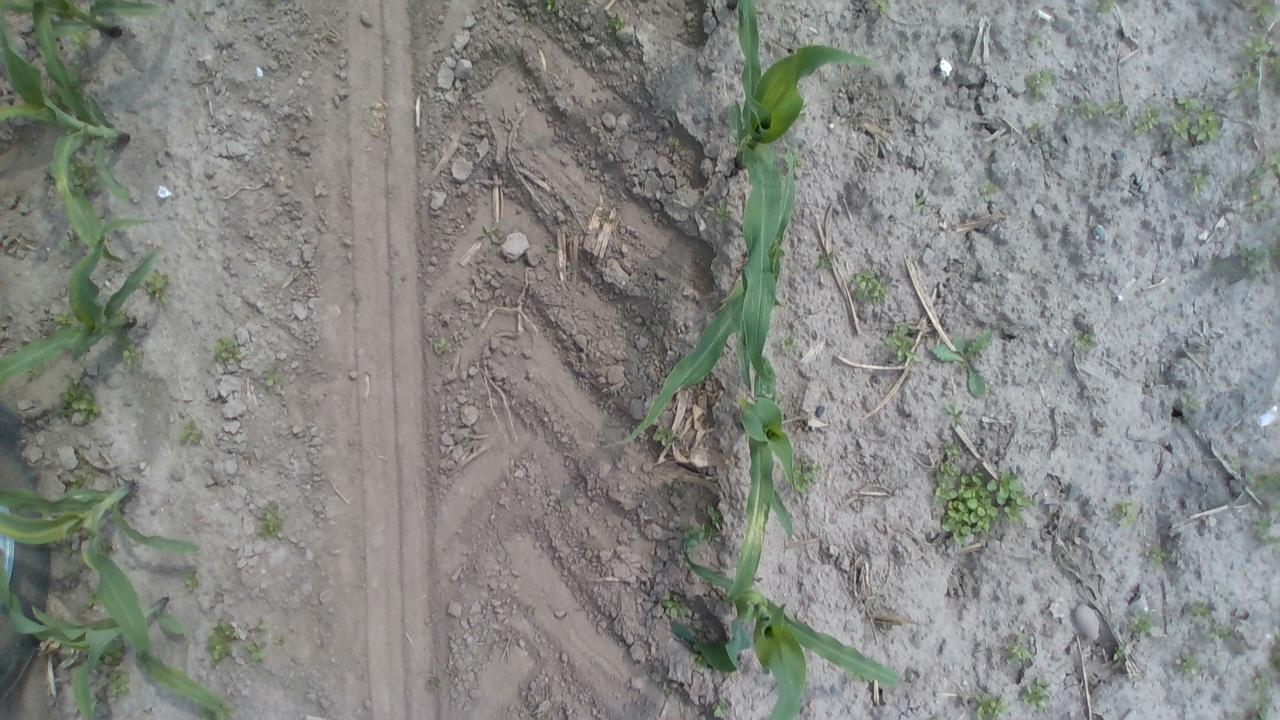Maize: (604, 134, 800, 454), (723, 16, 877, 352), (670, 534, 907, 720), (1, 564, 237, 720), (0, 4, 140, 266), (0, 478, 206, 637), (0, 214, 163, 388), (718, 251, 798, 604), (0, 1, 166, 55), (731, 0, 766, 104)
Weeds: (932, 442, 1032, 546), (930, 326, 996, 401), (1169, 92, 1223, 146), (1244, 155, 1280, 218), (54, 378, 102, 424), (1244, 34, 1280, 94), (682, 507, 726, 552), (1061, 96, 1127, 121), (205, 618, 239, 666), (882, 322, 919, 364), (851, 266, 890, 304), (1234, 243, 1278, 276), (1018, 672, 1052, 710), (256, 501, 287, 542), (1247, 672, 1273, 720), (1255, 497, 1280, 546), (210, 334, 246, 368), (70, 159, 104, 195), (969, 692, 1010, 720), (792, 457, 822, 494), (1004, 630, 1032, 669), (142, 268, 170, 306), (1112, 499, 1144, 529), (1133, 100, 1161, 134), (1026, 120, 1054, 154), (1024, 68, 1054, 99), (68, 25, 95, 56), (118, 336, 144, 368), (179, 417, 204, 448), (661, 591, 688, 619), (105, 671, 133, 698), (97, 642, 127, 666), (1248, 471, 1280, 493), (1186, 168, 1213, 194), (1252, 0, 1280, 24), (1130, 610, 1152, 640), (1148, 544, 1174, 569), (712, 198, 733, 228), (1178, 652, 1202, 678), (180, 564, 202, 592), (64, 471, 96, 489), (943, 397, 963, 425), (245, 640, 268, 664), (781, 146, 802, 172), (1208, 620, 1232, 642), (1020, 32, 1046, 52), (485, 222, 505, 247), (690, 648, 712, 670), (813, 250, 834, 272), (979, 180, 1000, 202), (1190, 599, 1212, 620), (606, 13, 628, 34), (1076, 330, 1098, 351), (649, 427, 672, 447), (58, 229, 78, 252), (202, 705, 232, 720), (868, 0, 893, 18), (263, 366, 281, 390), (83, 590, 104, 610), (1176, 395, 1198, 414), (1090, 0, 1116, 15), (709, 699, 728, 718), (433, 334, 453, 352), (1109, 642, 1126, 662), (594, 209, 616, 224), (100, 538, 118, 556), (52, 312, 72, 328), (778, 335, 798, 351), (252, 619, 270, 636), (1272, 632, 1280, 669), (1229, 457, 1246, 474), (913, 194, 930, 211), (1052, 360, 1068, 376), (114, 306, 132, 320), (848, 668, 866, 682), (544, 0, 560, 14), (430, 676, 444, 690), (666, 136, 682, 148), (61, 548, 79, 558), (274, 634, 286, 647), (662, 680, 670, 694)
